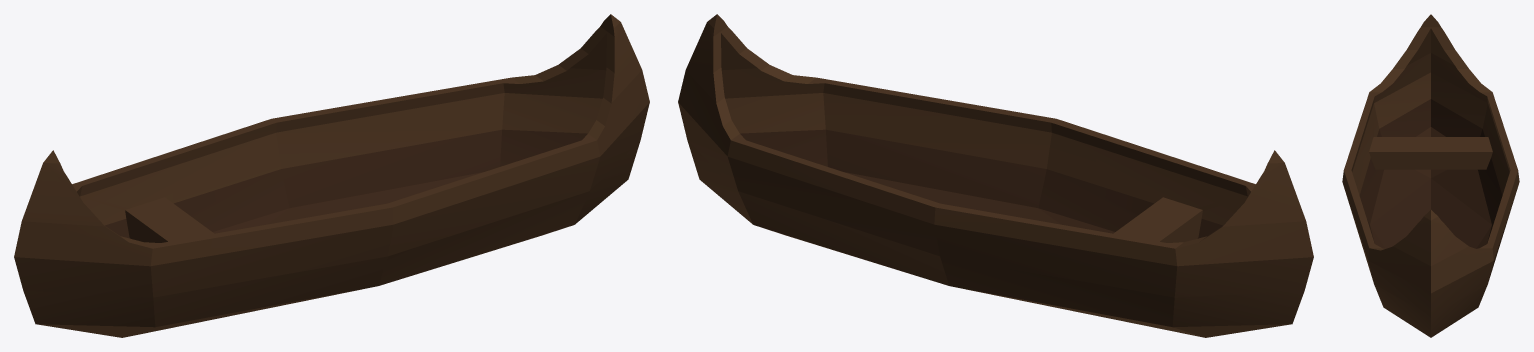
Rendered from Tribal_Plains_Canoe_Boat_Timber_Wood_01.fbx.
The picture shows the model from 3 angles, left to right: view 1: azimuth 30°, elevation 25°; view 2: azimuth 150°, elevation 25°; view 3: azimuth 270°, elevation 25°; orthographic projection. The views are drawn at different scales.
Parts seen in each view (by area): view 1: Tribal_Plains_Canoe_Boat_Timber_Wood_01; view 2: Tribal_Plains_Canoe_Boat_Timber_Wood_01; view 3: Tribal_Plains_Canoe_Boat_Timber_Wood_01.
Boxes of the visible parts, x1,y1,x2,y2 form: Tribal_Plains_Canoe_Boat_Timber_Wood_01: (14,14,649,337); Tribal_Plains_Canoe_Boat_Timber_Wood_01: (678,14,1313,337); Tribal_Plains_Canoe_Boat_Timber_Wood_01: (1342,14,1519,337).
Bounding box in the file's own units: 3.5 × 1.08 × 1.18.
